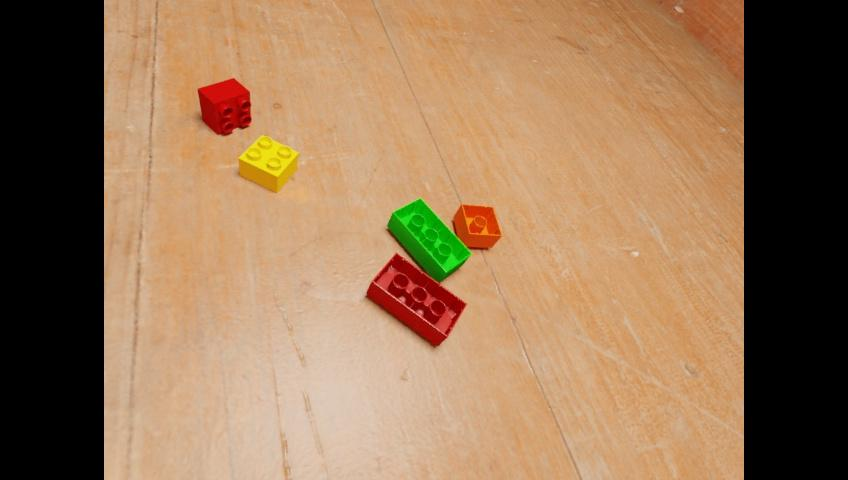2x2_orange: (453, 203, 501, 247)
2x2_red: (197, 78, 250, 135)
2x2_yellow: (238, 135, 297, 192)
4x2_green: (387, 197, 471, 282)
4x2_red: (365, 252, 466, 346)
